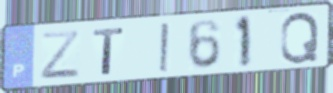1: (231, 14, 254, 71)
6: (186, 18, 223, 71)
I: (158, 20, 172, 74)
Q: (279, 10, 322, 66)
T: (91, 25, 128, 77)
Z: (38, 28, 82, 81)
